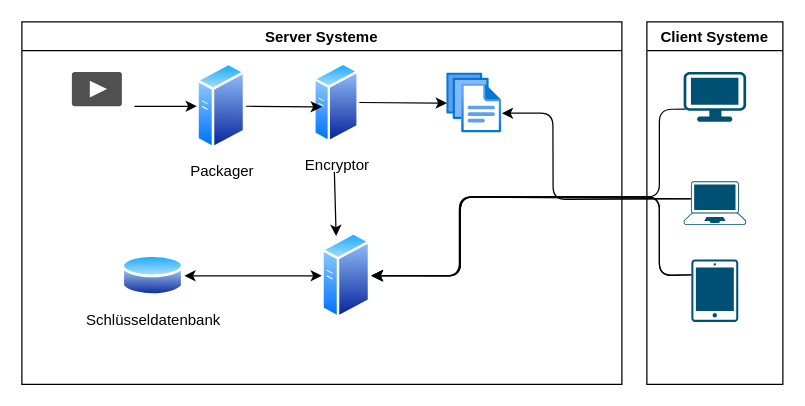
Image size: 805x406. Some labels were removed from this diagram. The shapes that lost their labels are listed below. From the top down, each one's centre as x and y in pixels, then its label:
[96,88]: Video und Audio Dateien
[473,102]: Inhalte
[345,275]: DRM Server
